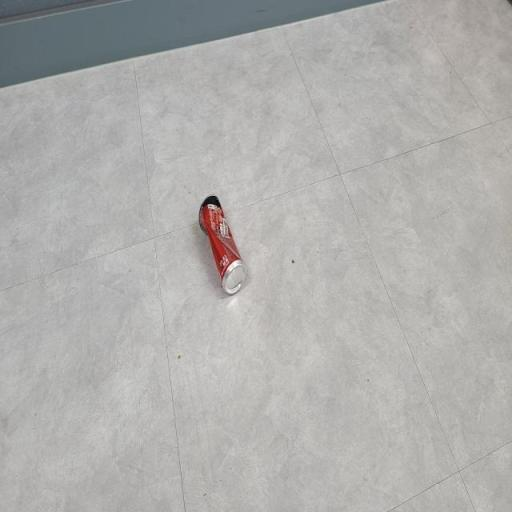metal: (191, 183, 249, 309)
